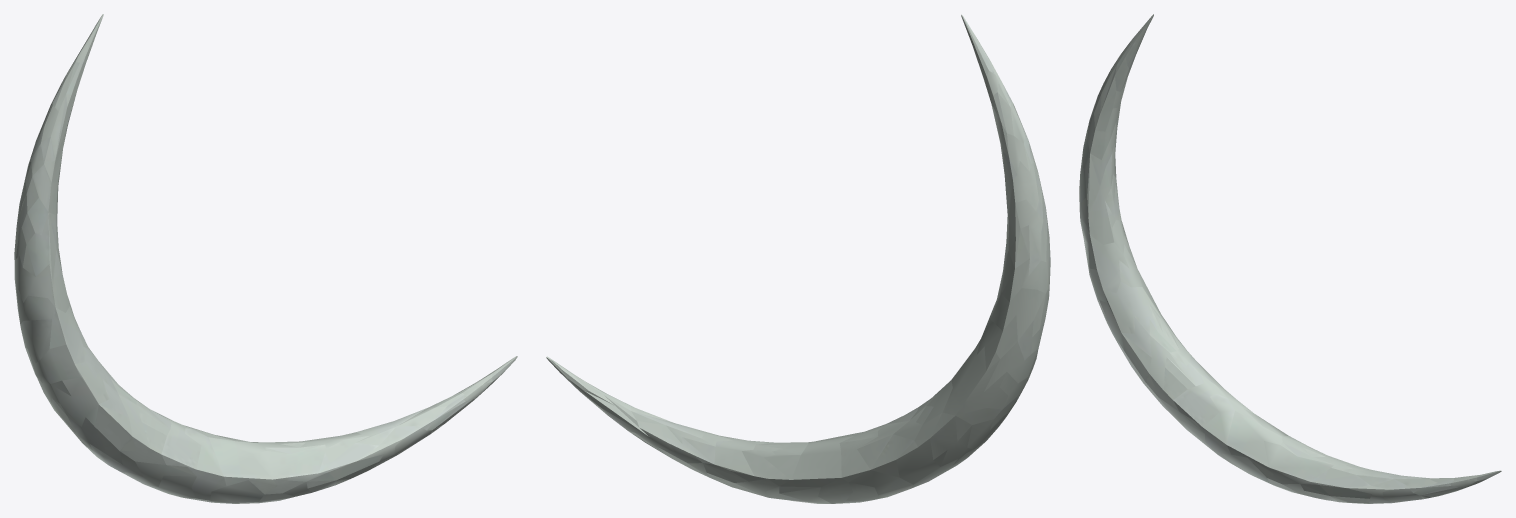
Rendered from fx_wind.glb.
The picture shows the model from 3 angles, left to right: view 1: azimuth 30°, elevation 25°; view 2: azimuth 150°, elevation 25°; view 3: azimuth 330°, elevation 25°; orthographic projection. The views are drawn at different scales.
Size of the model in its own units: 1.89 by 1.9 by 0.2301.
1 material, 1 textured.
